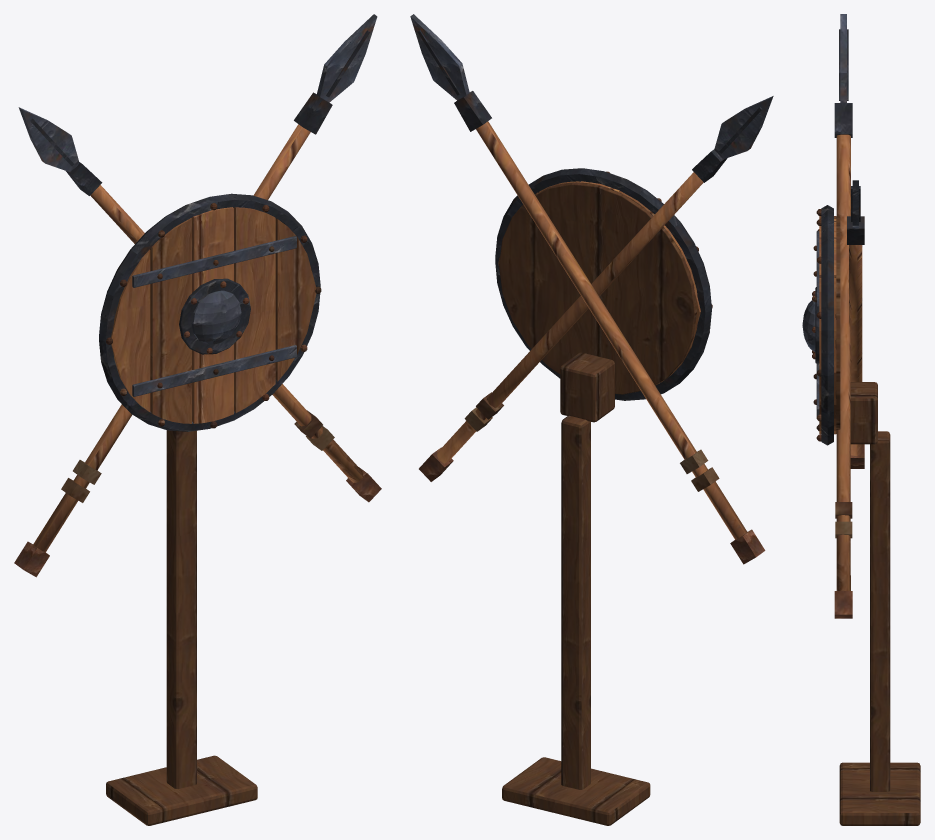
Rendered from hm_shield_spears.glb.
3 views of the same model, side by side, from view 1: azimuth 30°, elevation 25°; view 2: azimuth 150°, elevation 25°; view 3: azimuth 270°, elevation 25° (orthographic). The views are drawn at different scales.
Visible parts, largest first — view 1: model; view 2: model; view 3: model.
Part boxes in pixels (box(x1,y1,x2,y2)): model: box(14, 14, 381, 825); model: box(410, 14, 773, 825); model: box(802, 14, 920, 825).
Size of the model in its own units: 0.9727 by 1.92 by 0.292.
9 materials, 9 textured.
